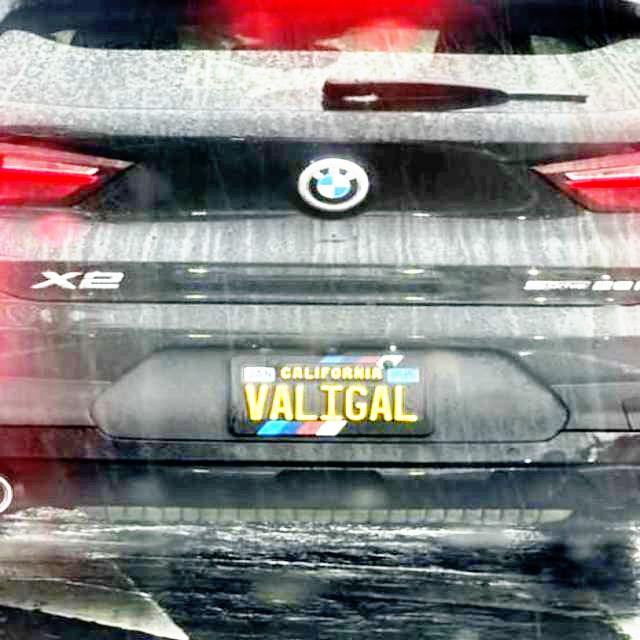license_plate: (230, 346, 433, 442)
